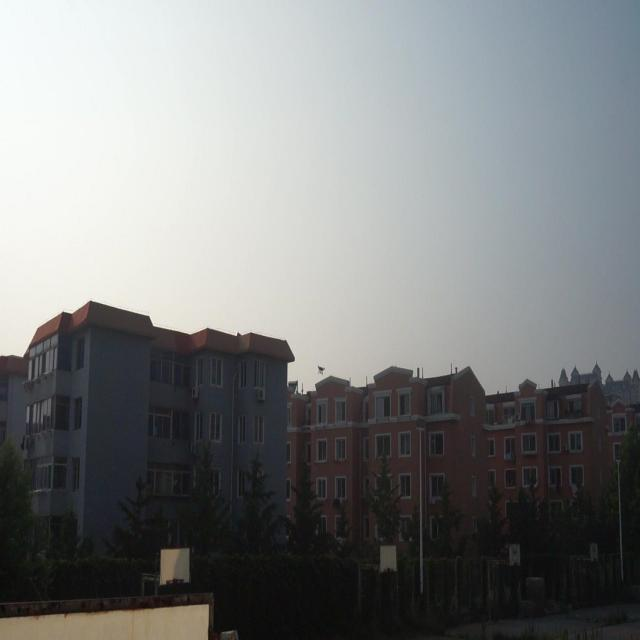UAV: (317, 365, 326, 376)
